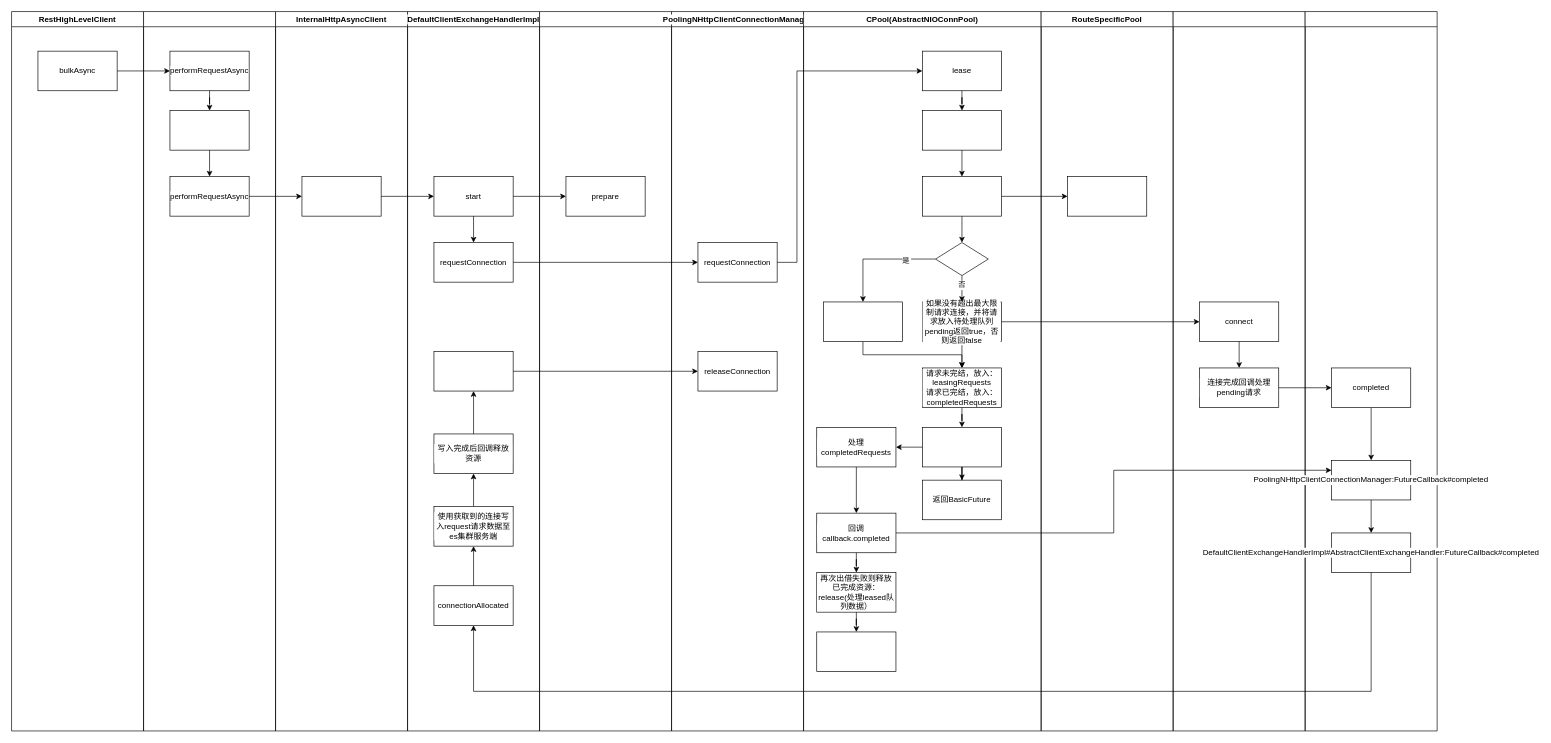
This 1551x743 diagram has some shape labels left out. The shapes that lost their labels are listed below. From the top down, each one's box as (x1, y1, x2, y2) in pixels, then its label:
(169, 110, 249, 150): nextNodes
(922, 110, 1002, 150): processPendingRequest
(301, 176, 381, 216): execute
(922, 176, 1002, 216): getPool
(1067, 176, 1147, 216): getFree
(935, 242, 988, 276): 获取成功（即存在资源）
(823, 301, 903, 342): 设置request.completed=true以及result,添加至leased队列，并返回true
(143, 11, 276, 731): RestClient
(433, 351, 513, 391): 如果是pending请求转移至leased或available 否则，由再次出借成功则保留leased，出借失败则转移至available
(539, 11, 672, 731): MainClientExec
(1172, 11, 1305, 731): ioReactor(DefaultConnectingIOReactor)
(1304, 11, 1437, 731): InternalSessionRequestCallback
(922, 427, 1002, 467): fireCallbacks
(816, 631, 896, 672): processNextPendingRequest
